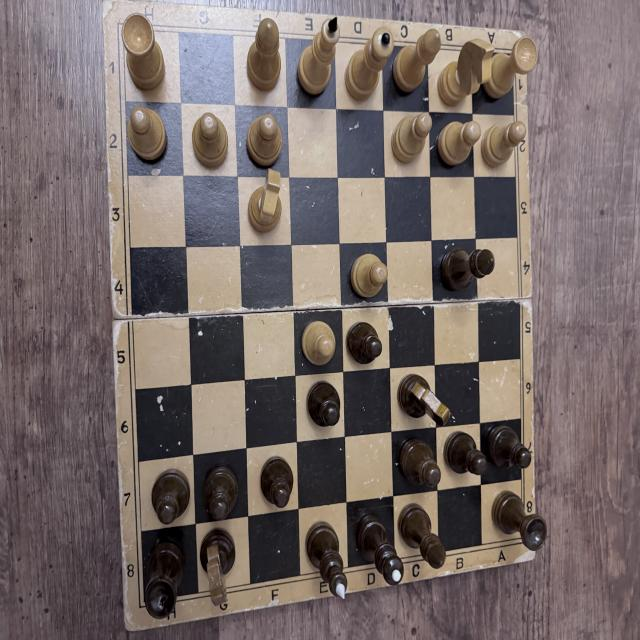black-bishop: (396, 502, 447, 570), (442, 248, 497, 290)
black-king: (306, 520, 349, 600)
black-knight: (199, 530, 238, 608), (398, 372, 450, 428)
black-pawn: (398, 436, 442, 494), (484, 421, 532, 470), (152, 466, 190, 526), (444, 428, 487, 477), (202, 464, 238, 522), (258, 454, 295, 510), (346, 319, 382, 369), (307, 380, 342, 428)
black-queen: (354, 512, 405, 588)
black-rook: (490, 490, 548, 551), (144, 540, 183, 618)
white-bishop: (393, 28, 442, 95), (247, 18, 282, 93)
white-king: (298, 15, 340, 97)
white-knight: (438, 36, 496, 108), (248, 168, 283, 232)
white-pawn: (436, 118, 482, 168), (192, 112, 229, 170), (391, 113, 433, 164), (128, 106, 166, 161), (482, 120, 525, 167), (247, 114, 283, 168), (351, 253, 388, 299), (302, 320, 336, 367)
white-queen: (344, 26, 394, 102)
white-rook: (121, 14, 167, 92), (484, 37, 538, 100)
